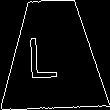L_N: (36, 29, 70, 80)
